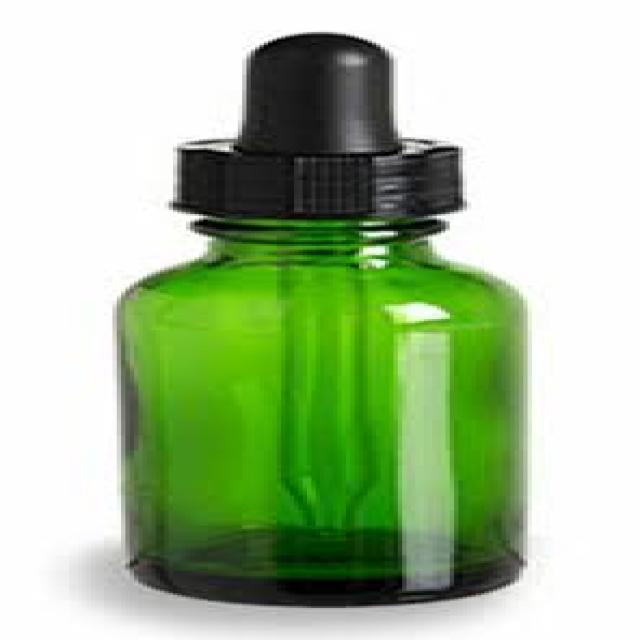glass: (113, 216, 524, 610)
plastic: (164, 30, 454, 216)
